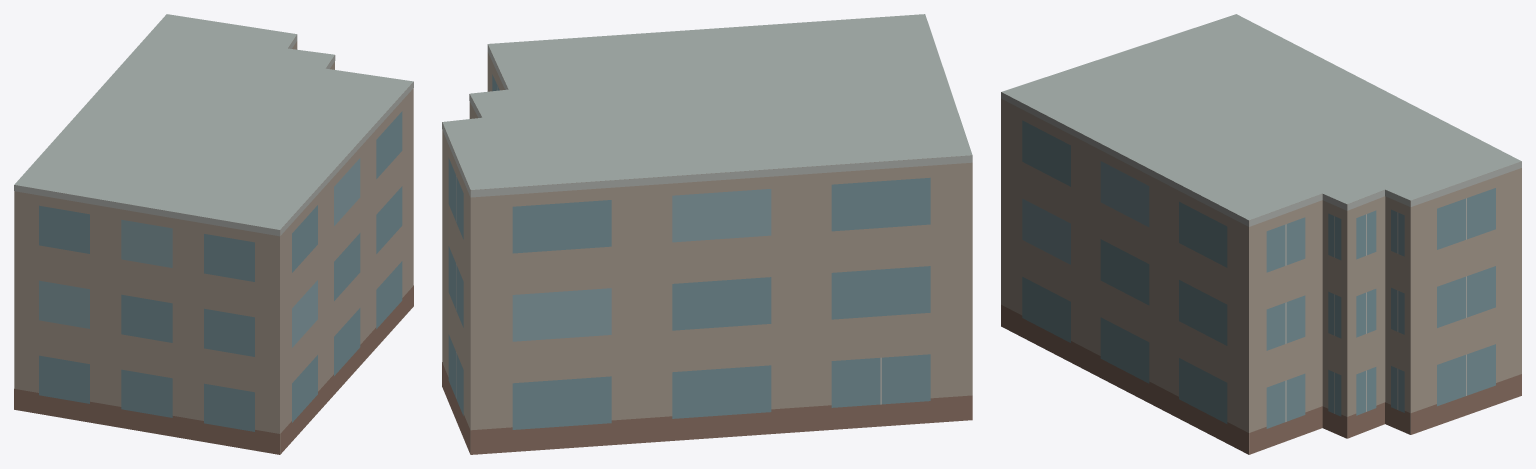
Rendered from survey-upis-33002619.glb.
3 renders of one model, left to right at view 1: azimuth 30°, elevation 25°; view 2: azimuth 150°, elevation 25°; view 3: azimuth 270°, elevation 25°, orthographic. The views are drawn at different scales.
Visible parts, largest first — view 1: survey-upis-33002619.tmp; view 2: survey-upis-33002619.tmp; view 3: survey-upis-33002619.tmp.
Part boxes in pixels (x1,y1,x2,y2): survey-upis-33002619.tmp: [14, 14, 413, 454]; survey-upis-33002619.tmp: [442, 14, 972, 454]; survey-upis-33002619.tmp: [1001, 14, 1521, 454].
Bounding box in the file's own units: 16.44 × 8.7 × 17.52.
